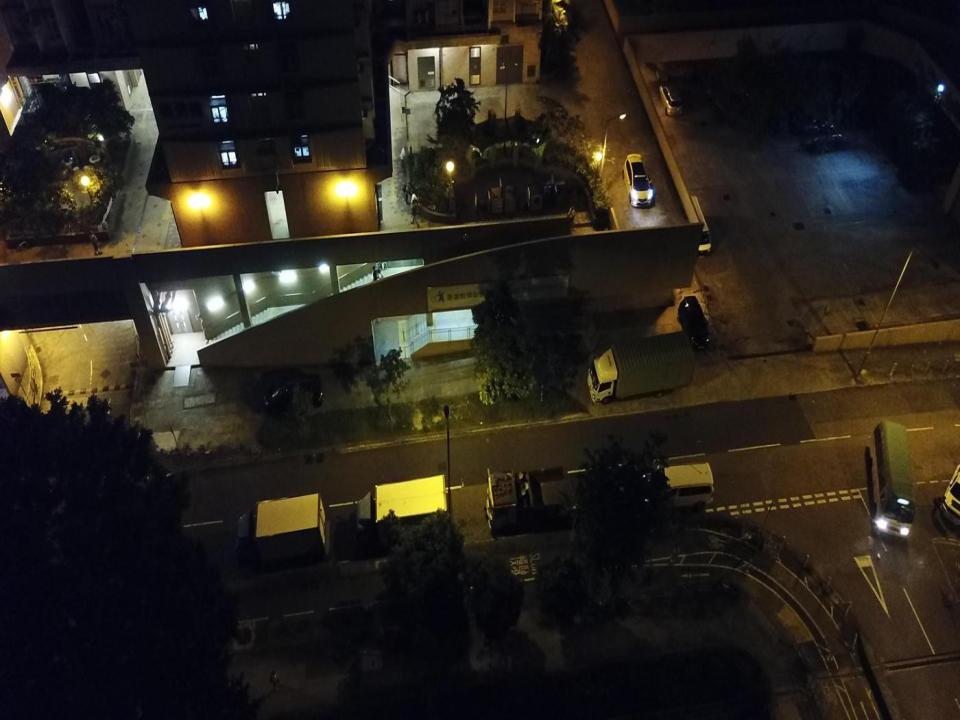bus: (868, 419, 917, 538)
car: (251, 364, 324, 414), (621, 154, 655, 207), (678, 294, 710, 350), (658, 81, 684, 115)
truck: (485, 466, 638, 534), (587, 330, 696, 405), (235, 492, 327, 569), (356, 473, 448, 544)
van: (642, 461, 714, 512)
